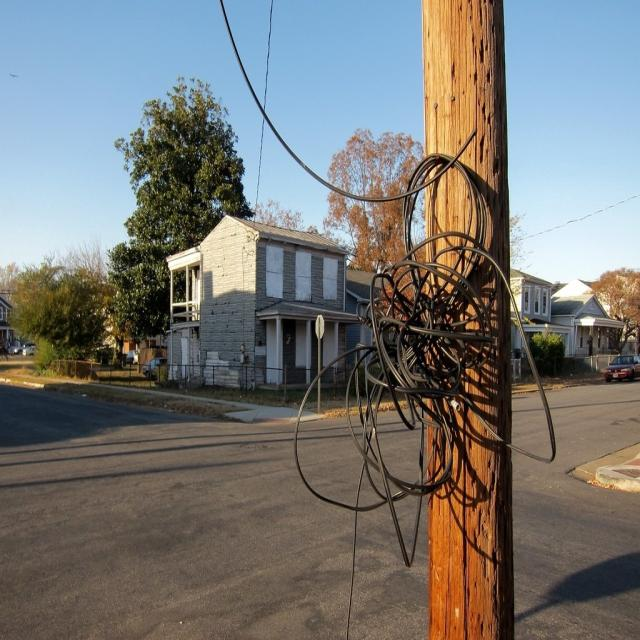Cable: (212, 0, 592, 640)
